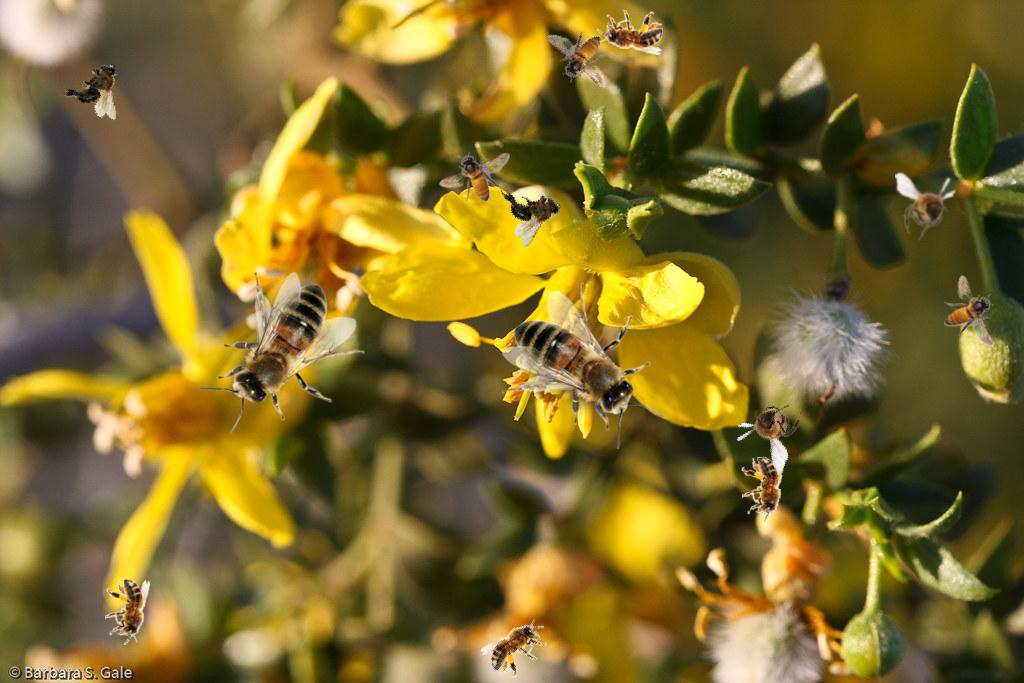Bee: (502, 282, 664, 449), (198, 272, 365, 434), (727, 381, 814, 473), (545, 15, 621, 102), (478, 607, 558, 683), (57, 48, 136, 124), (496, 171, 571, 249), (895, 169, 960, 243), (944, 275, 994, 346), (439, 152, 510, 202), (739, 455, 789, 524), (105, 579, 150, 645), (597, 10, 663, 55)
